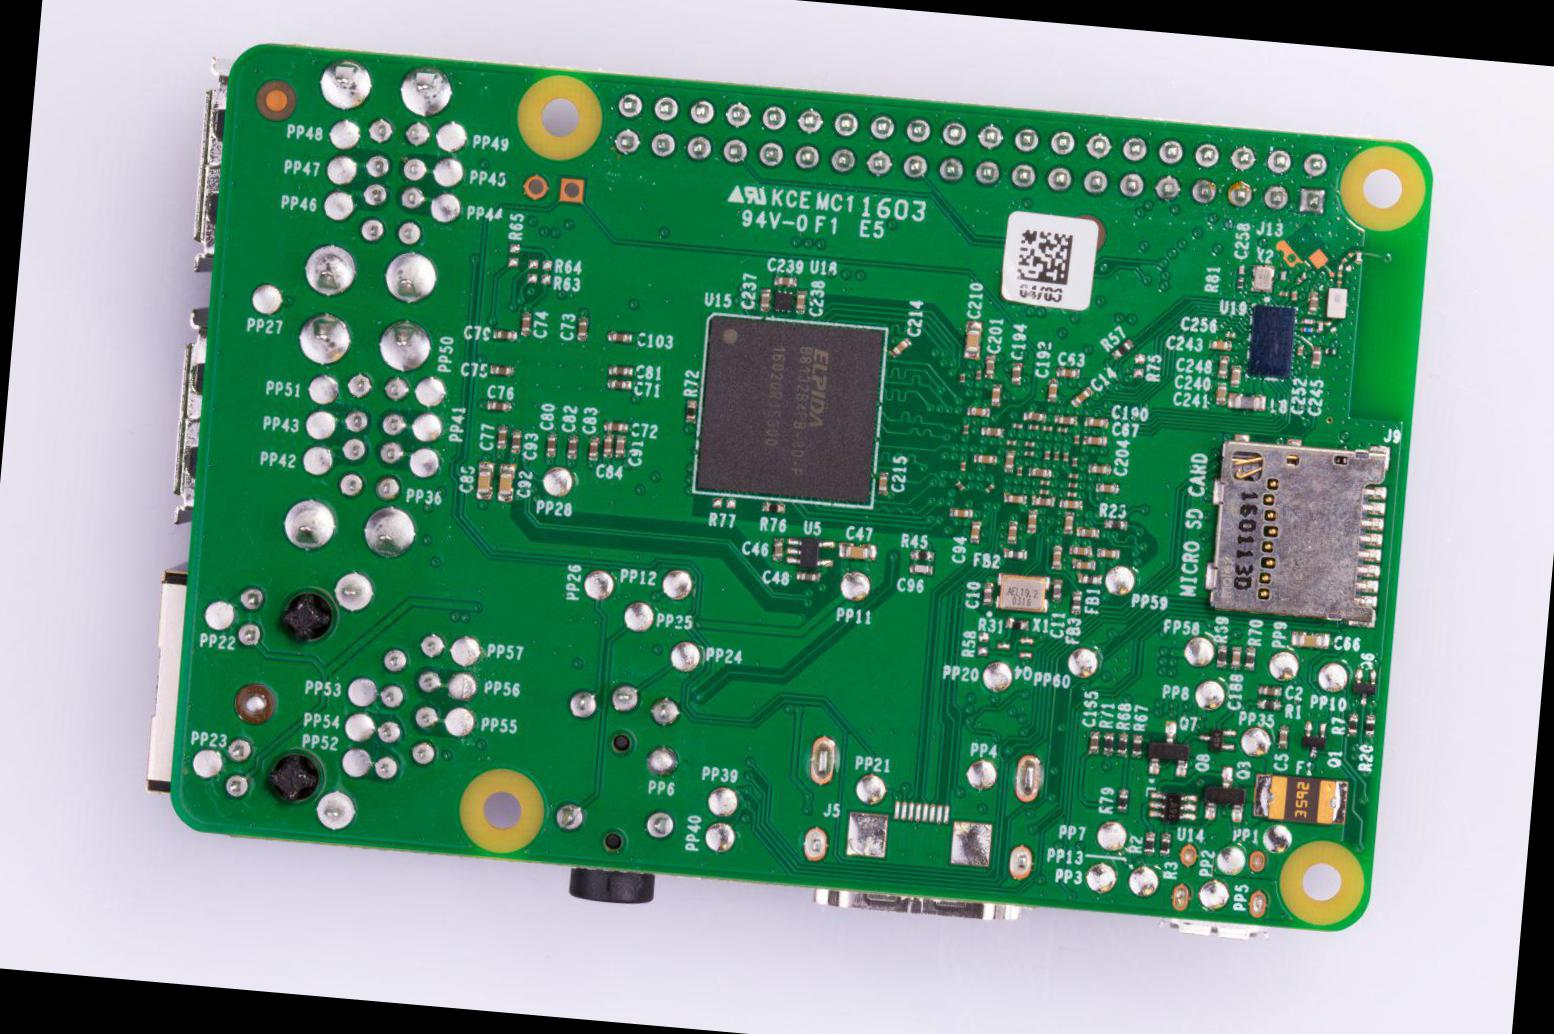Capacitor: (961, 319, 983, 360), (836, 539, 878, 561), (473, 460, 495, 500), (1290, 629, 1330, 649), (496, 462, 515, 502), (1068, 383, 1094, 409), (888, 335, 911, 360), (563, 433, 579, 459), (1255, 682, 1283, 697), (770, 274, 798, 287), (793, 287, 808, 314), (487, 362, 513, 377), (1086, 460, 1112, 475), (585, 435, 600, 462), (607, 364, 635, 377), (683, 397, 698, 422), (874, 470, 889, 495), (603, 420, 630, 434), (1275, 722, 1289, 749), (1309, 344, 1323, 369), (606, 330, 633, 343), (771, 535, 784, 561), (1228, 364, 1243, 387), (576, 315, 588, 342), (1054, 366, 1081, 379), (486, 399, 512, 412), (510, 428, 523, 455), (908, 562, 934, 575), (981, 580, 994, 605), (759, 284, 771, 313), (983, 354, 996, 380), (607, 377, 632, 390), (1082, 434, 1108, 447), (613, 433, 625, 458), (1230, 644, 1243, 669), (794, 570, 821, 582), (493, 329, 517, 342), (1045, 379, 1058, 403), (601, 433, 614, 457), (968, 519, 981, 544), (1083, 415, 1110, 427), (546, 432, 557, 458), (1215, 382, 1228, 405), (496, 425, 508, 450), (1051, 577, 1064, 600), (1011, 362, 1023, 384), (1209, 339, 1232, 351), (1218, 354, 1229, 379), (1088, 730, 1097, 755), (1294, 345, 1304, 358), (1237, 264, 1244, 274), (1225, 330, 1234, 337)
Clock: (998, 574, 1048, 612), (1249, 262, 1274, 292)
Connector: (517, 166, 593, 210)
Ferrite Bead: (1069, 591, 1083, 614), (1001, 548, 1028, 560), (1078, 572, 1103, 584)
Fuse: (1252, 770, 1349, 824)
IC: (1203, 437, 1396, 632), (686, 315, 876, 511), (1246, 302, 1297, 376), (1146, 786, 1198, 824), (770, 286, 795, 313)
Inductor: (1228, 390, 1267, 411)
Pads: (841, 795, 999, 870), (1273, 238, 1330, 269), (996, 634, 1037, 660), (505, 240, 520, 268), (526, 255, 553, 270), (1132, 351, 1146, 379), (526, 270, 551, 285), (711, 495, 736, 510), (976, 631, 989, 658)
Pins: (608, 85, 1332, 220), (290, 234, 442, 375), (271, 495, 419, 622), (369, 623, 446, 791), (354, 112, 433, 246), (335, 368, 413, 502), (311, 53, 460, 120), (560, 673, 692, 730), (548, 794, 678, 845), (795, 722, 842, 862), (1001, 749, 1048, 883), (307, 781, 365, 834), (233, 580, 268, 652), (228, 734, 262, 802), (1243, 846, 1273, 920), (1168, 841, 1198, 912)
Resistor Network: (1109, 335, 1135, 362), (909, 547, 936, 562), (1101, 517, 1128, 531), (760, 500, 787, 514), (1004, 616, 1030, 630), (1254, 697, 1281, 711), (1215, 642, 1228, 668), (1361, 714, 1376, 736), (1129, 732, 1142, 757), (1117, 787, 1129, 811), (1244, 643, 1255, 669), (1345, 712, 1359, 734), (1102, 730, 1114, 754), (1143, 830, 1156, 853), (1116, 733, 1127, 757), (1159, 831, 1171, 855), (1234, 276, 1245, 290)
Test Point: (1237, 722, 1275, 762), (641, 740, 680, 778), (666, 636, 701, 676), (336, 743, 376, 779), (321, 152, 359, 189), (301, 406, 339, 443), (300, 442, 337, 480), (836, 567, 874, 604), (580, 564, 616, 604), (701, 817, 736, 857), (246, 280, 283, 317), (339, 709, 376, 745), (320, 186, 358, 222), (405, 444, 443, 480), (1312, 659, 1350, 695), (704, 784, 742, 819), (1081, 860, 1119, 896), (1267, 645, 1301, 684), (962, 757, 1001, 792), (431, 118, 467, 155), (325, 117, 362, 152), (659, 565, 695, 602), (411, 375, 449, 410), (851, 771, 889, 806), (978, 659, 1014, 695), (442, 703, 478, 739), (1065, 644, 1099, 681), (408, 410, 444, 444), (1180, 634, 1216, 668), (443, 669, 479, 704), (344, 675, 380, 710), (1214, 842, 1247, 879), (1126, 863, 1159, 900), (448, 634, 481, 669), (1093, 817, 1128, 851), (303, 374, 340, 406), (622, 599, 655, 634), (1193, 677, 1226, 712), (541, 466, 575, 500), (428, 192, 463, 224), (430, 157, 466, 188), (1198, 879, 1231, 912), (1104, 563, 1135, 598), (1260, 821, 1292, 853), (189, 747, 222, 778), (203, 599, 233, 628)
Transistor: (1195, 762, 1248, 822), (1144, 718, 1191, 775), (1194, 722, 1236, 752), (1299, 718, 1328, 757), (1347, 667, 1377, 703)
Unknown Unlabeled: (783, 532, 834, 570), (1326, 286, 1349, 319), (1306, 289, 1319, 314), (1061, 510, 1074, 534), (520, 309, 532, 336), (971, 452, 998, 464), (1058, 497, 1083, 509), (1050, 544, 1061, 569), (1332, 265, 1346, 286), (1022, 410, 1046, 421), (1027, 465, 1051, 477), (1095, 481, 1119, 493), (1003, 492, 1027, 503), (948, 505, 973, 517), (1006, 519, 1018, 544), (1072, 559, 1096, 570), (990, 382, 1001, 405), (1096, 547, 1119, 559), (966, 405, 990, 415), (979, 426, 1004, 436), (1030, 495, 1054, 505), (1026, 508, 1036, 532), (1075, 526, 1099, 537), (1068, 545, 1093, 555), (1004, 449, 1014, 472), (1053, 414, 1079, 424), (1338, 250, 1353, 265), (1296, 270, 1307, 284), (1298, 325, 1315, 334), (953, 479, 964, 490), (1327, 268, 1335, 284), (1323, 346, 1337, 355), (1315, 319, 1323, 334), (985, 480, 996, 492), (1277, 268, 1286, 280), (1299, 317, 1315, 324), (974, 367, 982, 380), (1290, 289, 1298, 300), (961, 421, 969, 433), (1073, 433, 1081, 444), (1061, 449, 1069, 460), (1042, 448, 1050, 459), (1027, 422, 1039, 429), (1041, 424, 1053, 430), (1056, 425, 1068, 432), (1005, 437, 1016, 444), (1024, 440, 1036, 447), (1052, 449, 1059, 460), (1022, 449, 1034, 456), (1038, 487, 1050, 494), (959, 372, 966, 382), (1015, 465, 1022, 475), (1067, 471, 1078, 478), (1067, 480, 1078, 487), (1071, 456, 1078, 465), (1039, 478, 1049, 485), (1067, 490, 1076, 497), (1278, 290, 1288, 295), (1013, 422, 1022, 428), (960, 460, 966, 470)
